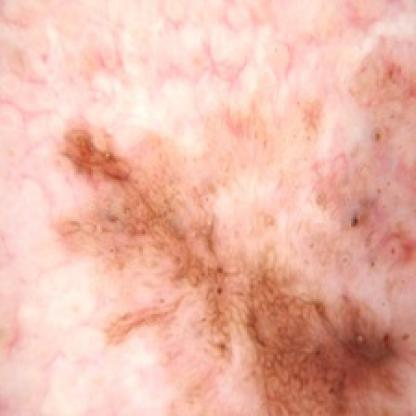malignant: (58, 76, 412, 407)
